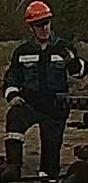gloves: (57, 47, 76, 69), (7, 93, 26, 109)
helmet: (23, 0, 53, 24)
vest: (8, 39, 72, 114)
